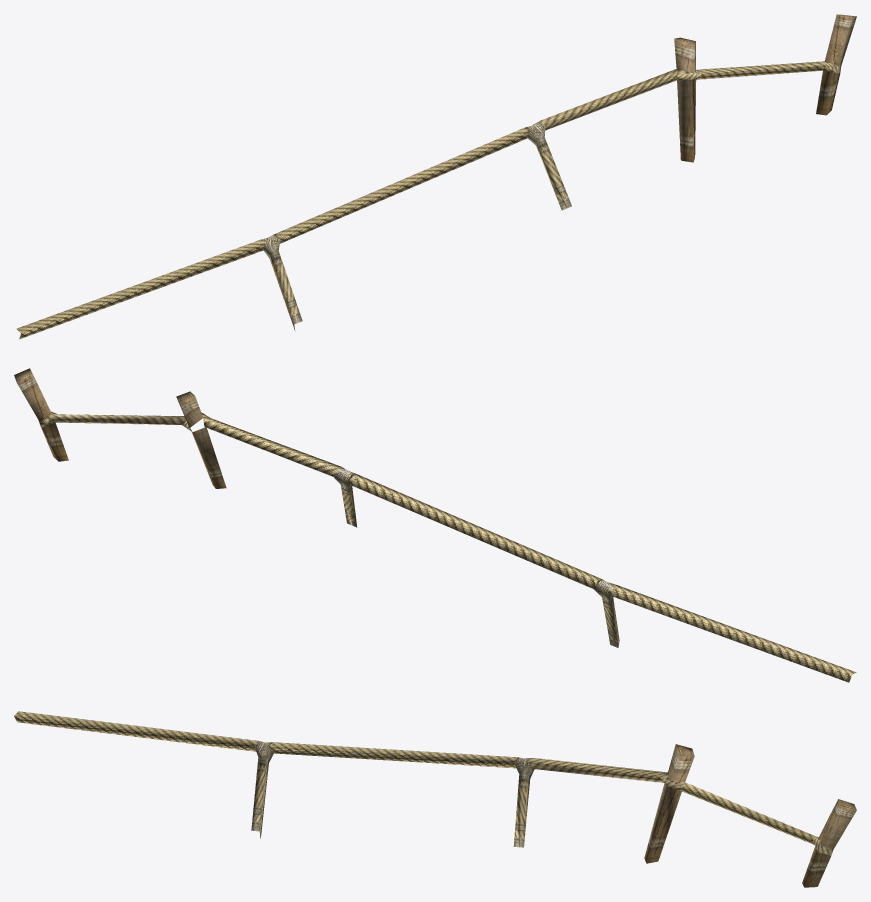
File: Mission8_RopeBridge_B3.glb
3 views of the same model, one above another, from view 1: azimuth 30°, elevation 25°; view 2: azimuth 150°, elevation 25°; view 3: azimuth 330°, elevation 25° (orthographic).
Visible parts, largest first — view 1: MISSION8_ROPEBRIDGE_B3; view 2: MISSION8_ROPEBRIDGE_B3; view 3: MISSION8_ROPEBRIDGE_B3.
Boxes of the visible parts, x1,y1,x2,y2 form: MISSION8_ROPEBRIDGE_B3: (16,14,856,339); MISSION8_ROPEBRIDGE_B3: (14,368,856,682); MISSION8_ROPEBRIDGE_B3: (14,711,856,887).
Bounding box in the file's own units: 12.88 × 2.56 × 0.88.
4 materials, 4 textured.
